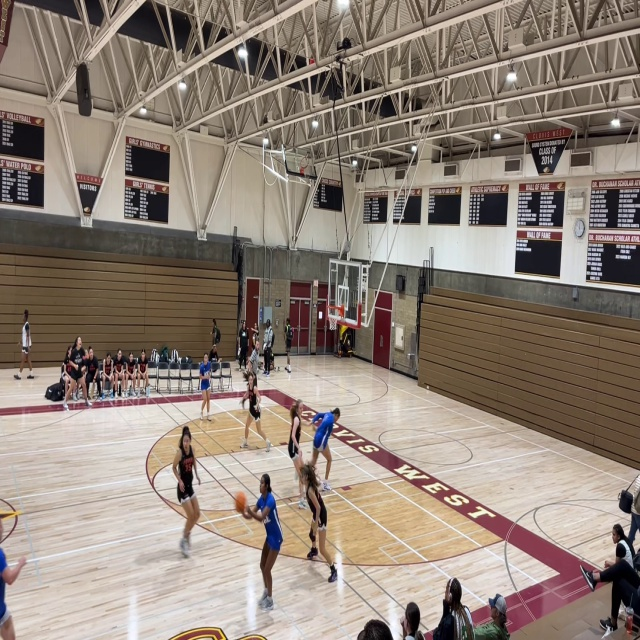Basketball: (234, 491, 247, 512)
